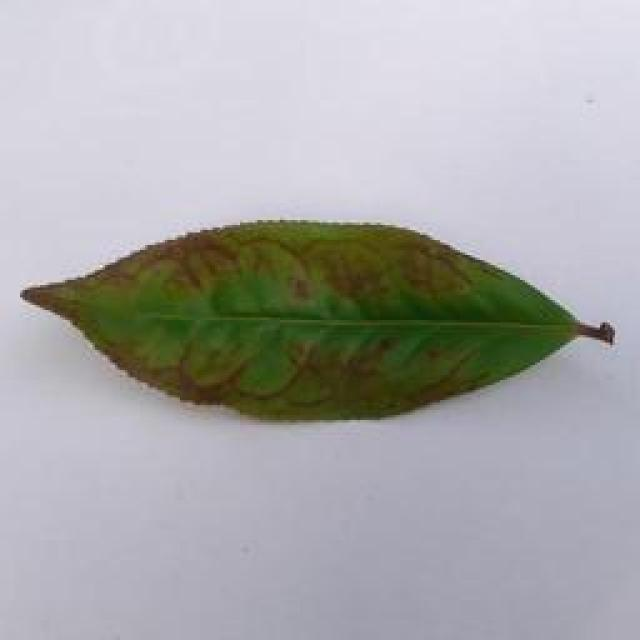Red Leaf Spot: (24, 201, 628, 438)
